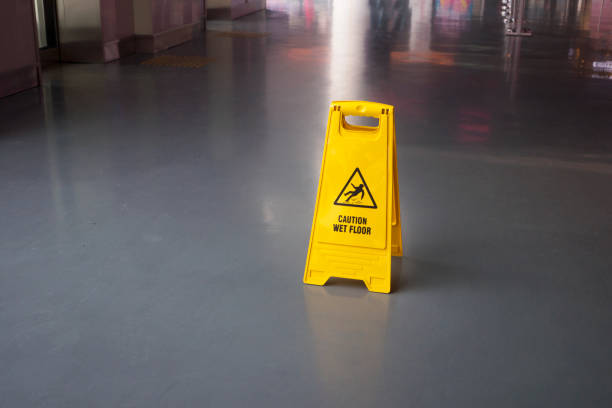wet caution sign: (302, 103, 408, 305)
